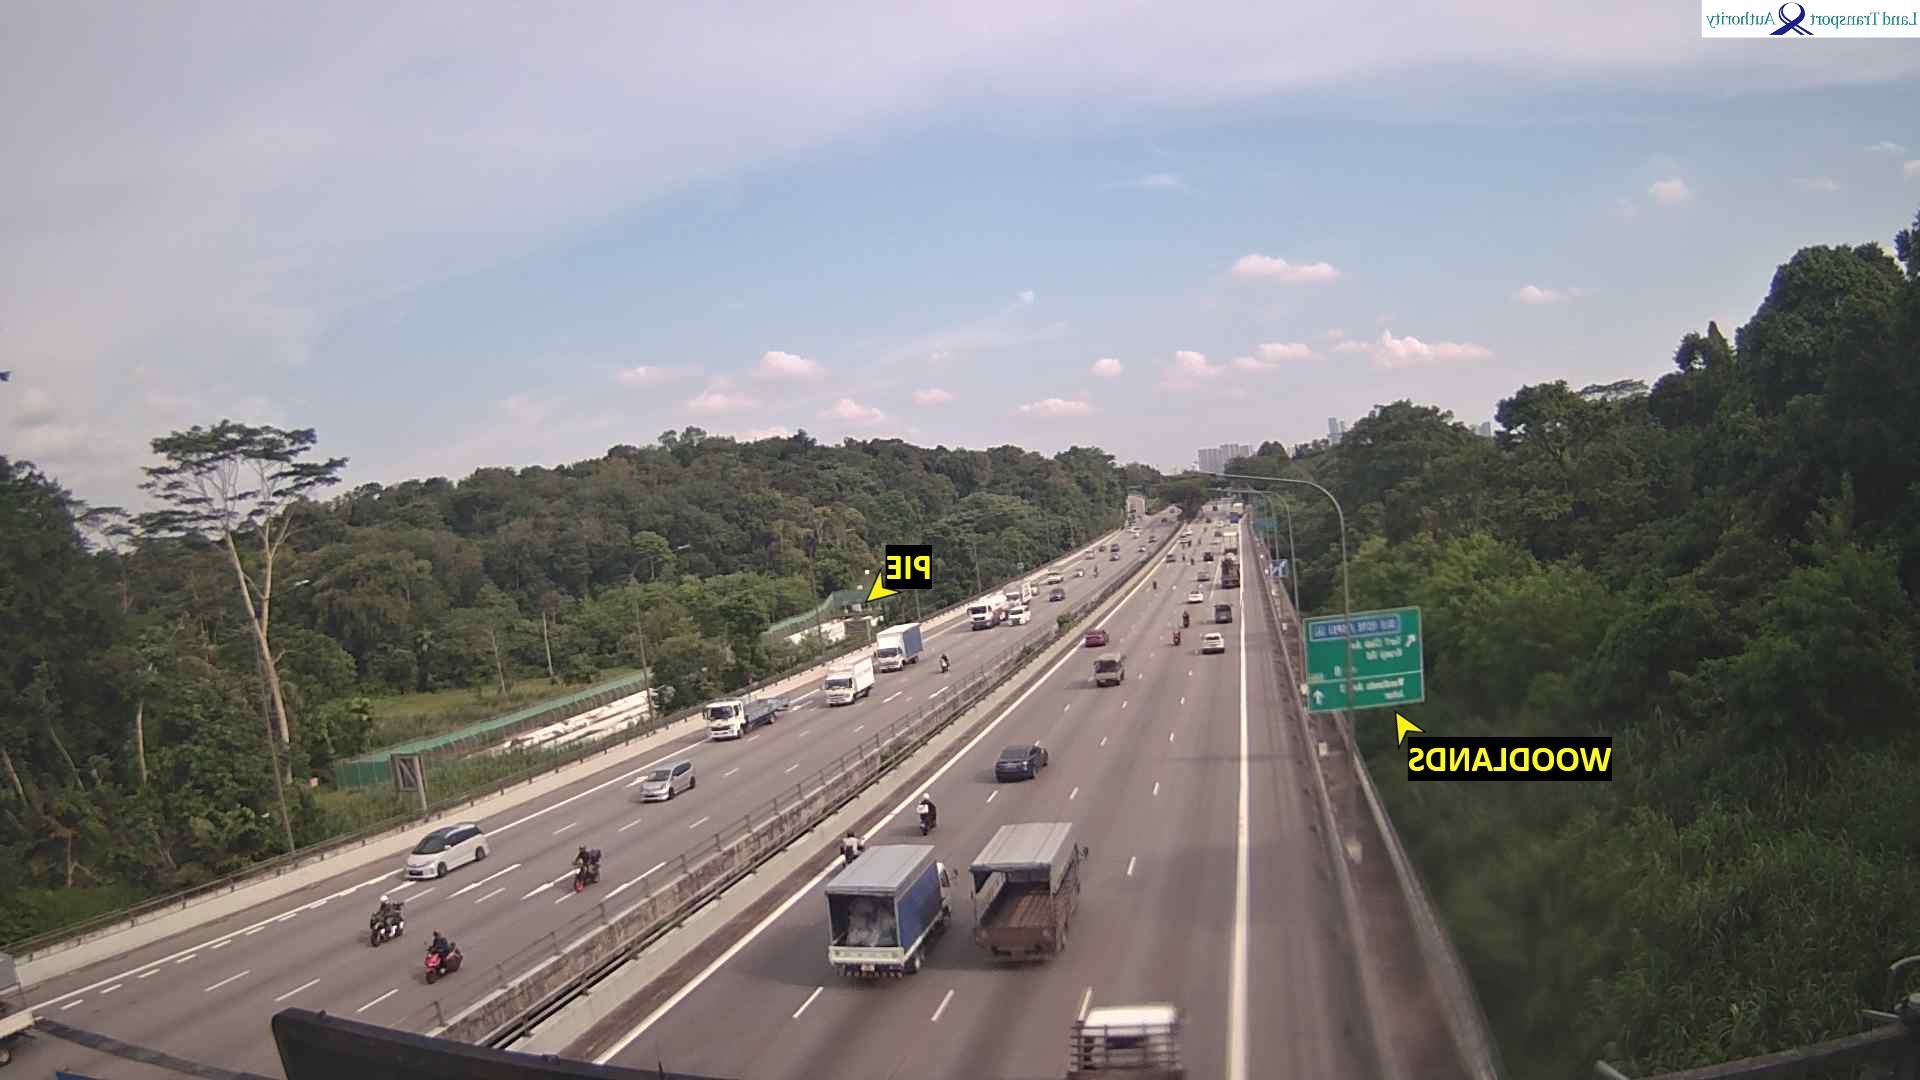incoming: (400, 828, 456, 887), (638, 766, 680, 808), (699, 699, 742, 740), (818, 669, 856, 707), (872, 641, 905, 676), (965, 601, 994, 633), (421, 945, 444, 984), (367, 913, 386, 951), (564, 860, 587, 891), (1005, 607, 1027, 629)
